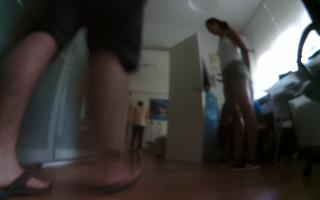person: (1, 1, 144, 200), (203, 13, 264, 173), (128, 98, 147, 157)
